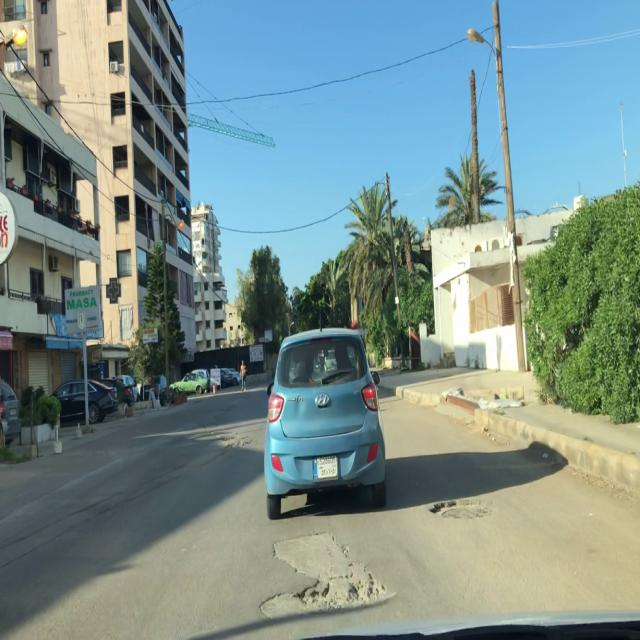Pothole: (290, 579, 400, 619), (426, 496, 500, 524), (215, 432, 254, 448)
